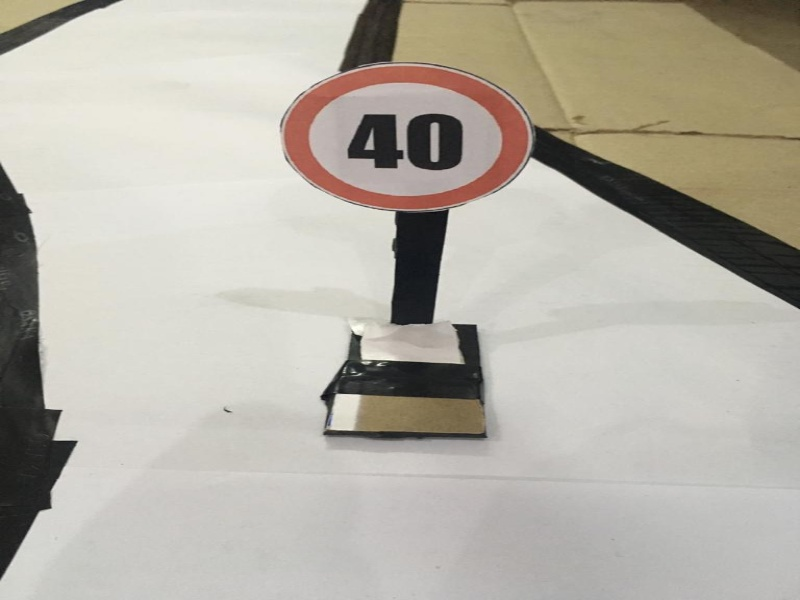Speed Limit 40: (266, 59, 539, 210)
